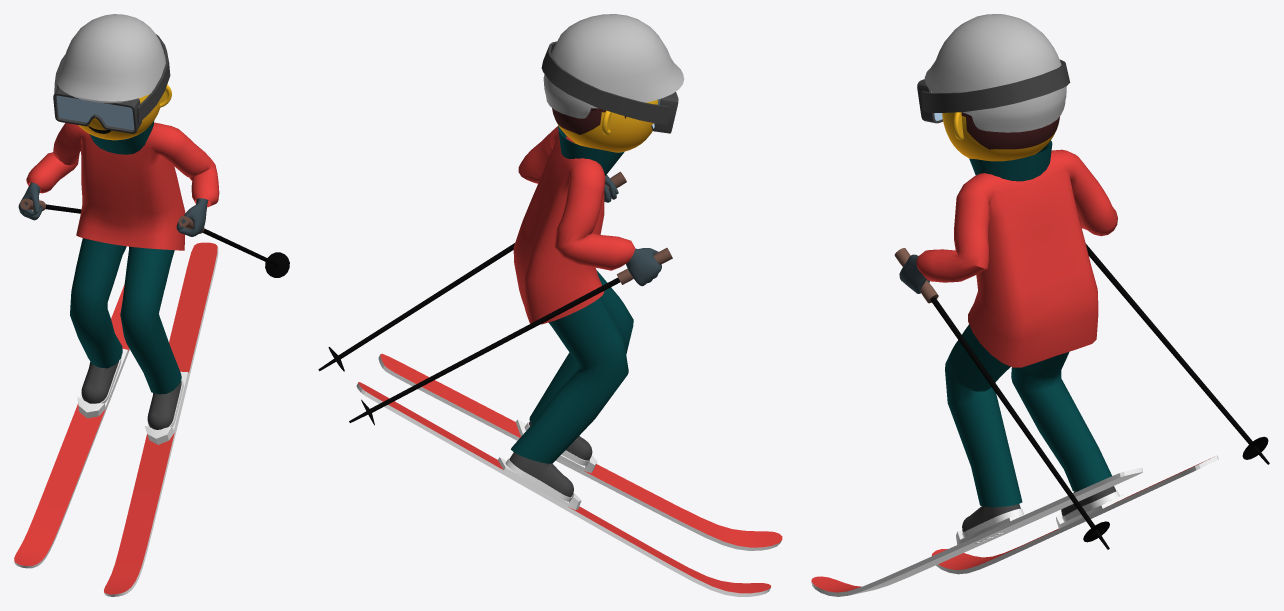
Rendered from skier.glb.
The picture shows the model from 3 angles, left to right: view 1: azimuth 30°, elevation 25°; view 2: azimuth 150°, elevation 25°; view 3: azimuth 270°, elevation 25°; orthographic projection. The views are drawn at different scales.
Visible parts, largest first — view 1: Circle.078, Cube.254, Cube.252, Cube.253, Plane.019, Sphere.373, Sphere.022, Circle.079, Plane.020, Roundcube.450, Plane.018, Circle.082; view 2: Circle.078, Cube.252, Cube.254, Cube.253, Roundcube.450, Plane.020, Circle.082, Sphere.373, Circle.079, Plane.018, Sphere.022; view 3: Circle.078, Cube.252, Cube.254, Plane.020, Roundcube.450, Cube.253, Circle.079, Circle.082, Plane.018, Sphere.022, Sphere.373.
Boxes of the visible parts, x1=… form: Circle.078: x1=18, y1=122, x2=219, y2=401; Cube.254: x1=104, y1=242, x2=218, y2=596; Cube.252: x1=57, y1=14, x2=165, y2=103; Cube.253: x1=14, y1=284, x2=129, y2=568; Plane.019: x1=53, y1=87, x2=141, y2=133; Sphere.373: x1=80, y1=358, x2=121, y2=403; Sphere.022: x1=147, y1=379, x2=183, y2=429; Circle.079: x1=178, y1=216, x2=289, y2=277; Plane.020: x1=54, y1=34, x2=170, y2=123; Roundcube.450: x1=78, y1=94, x2=160, y2=140; Plane.018: x1=90, y1=120, x2=154, y2=154; Circle.082: x1=20, y1=198, x2=81, y2=213; Circle.078: x1=511, y1=126, x2=661, y2=463; Cube.252: x1=543, y1=14, x2=684, y2=118; Cube.254: x1=378, y1=353, x2=782, y2=550; Cube.253: x1=356, y1=382, x2=770, y2=596; Roundcube.450: x1=552, y1=100, x2=658, y2=152; Plane.020: x1=541, y1=41, x2=669, y2=124; Circle.082: x1=349, y1=248, x2=672, y2=425; Sphere.373: x1=505, y1=452, x2=573, y2=501; Circle.079: x1=318, y1=171, x2=626, y2=371; Plane.018: x1=558, y1=125, x2=624, y2=175; Sphere.022: x1=524, y1=421, x2=592, y2=465; Circle.078: x1=899, y1=149, x2=1117, y2=507; Cube.252: x1=924, y1=14, x2=1066, y2=132; Cube.254: x1=811, y1=468, x2=1142, y2=596; Plane.020: x1=921, y1=59, x2=1070, y2=113; Roundcube.450: x1=942, y1=112, x2=1059, y2=161; Cube.253: x1=931, y1=455, x2=1218, y2=574; Circle.079: x1=894, y1=248, x2=1109, y2=549; Circle.082: x1=1085, y1=243, x2=1269, y2=464; Plane.018: x1=969, y1=140, x2=1052, y2=181; Sphere.022: x1=962, y1=504, x2=1023, y2=537; Sphere.373: x1=1061, y1=486, x2=1119, y2=521.
Size of the model in its own units: 1.49 by 2.14 by 1.46.
Materials: 1 (1 with a texture image).
